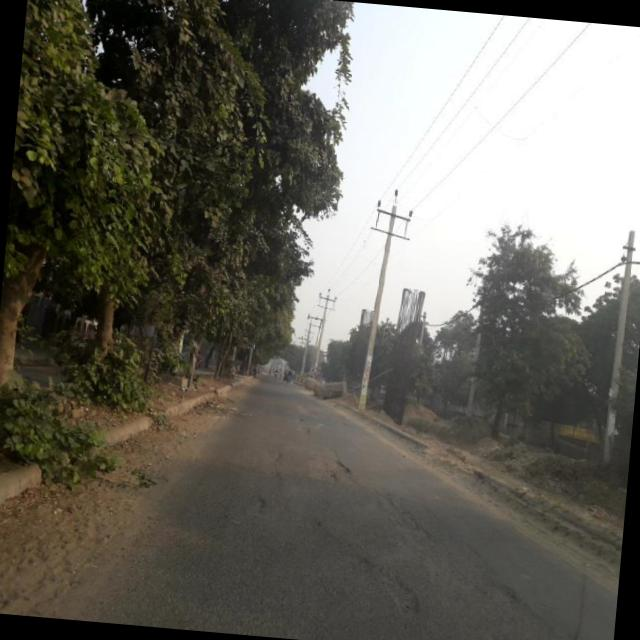crack: (454, 509, 556, 625), (239, 404, 332, 524)
pothole: (372, 568, 429, 624), (372, 490, 429, 544), (322, 452, 358, 482)
